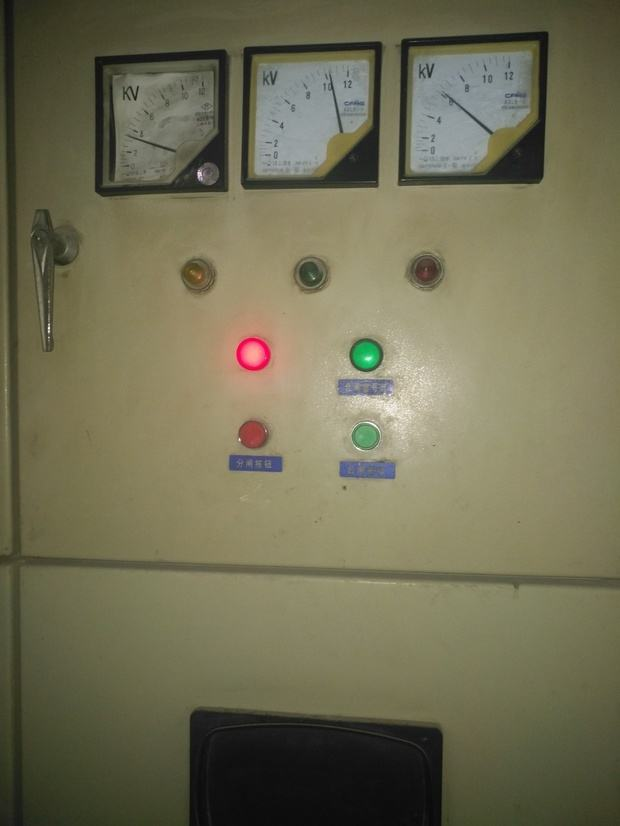pointer: (407, 45, 537, 176), (249, 54, 370, 180), (100, 59, 218, 183)
